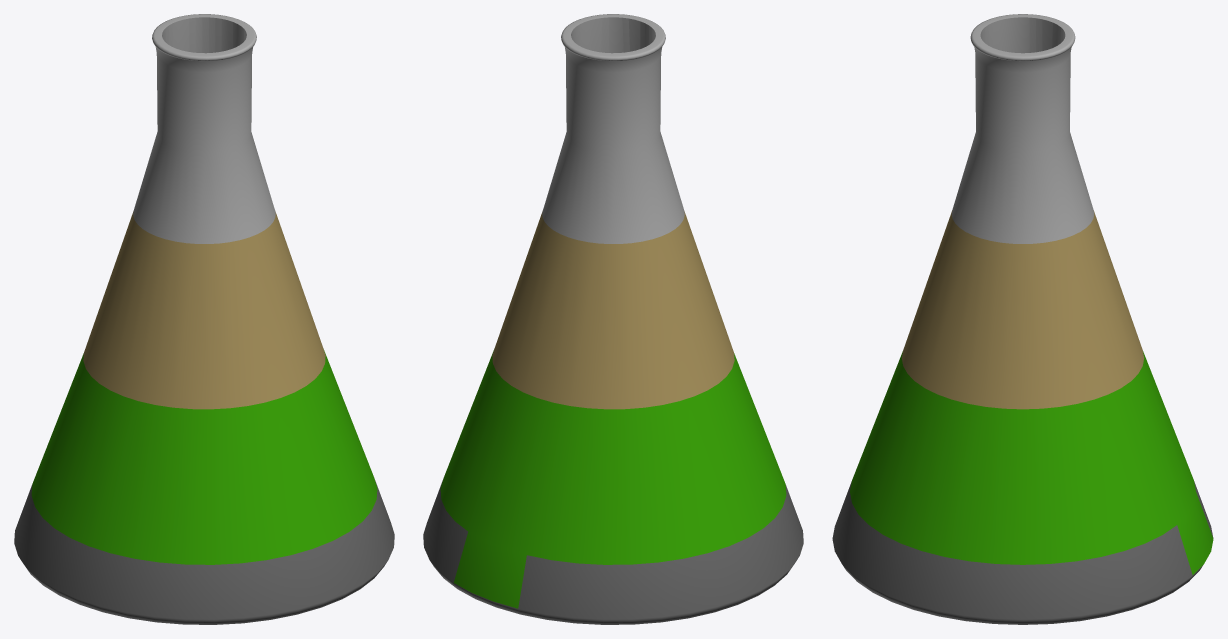
Rendered from HollowFlask.fbx.
3 renders of one model, left to right at view 1: azimuth 30°, elevation 25°; view 2: azimuth 150°, elevation 25°; view 3: azimuth 270°, elevation 25°, orthographic.
Visible parts, largest first — view 1: Erlehnmeyer_Flask2; view 2: Erlehnmeyer_Flask2; view 3: Erlehnmeyer_Flask2.
Part boxes in pixels (bbox=[...]): Erlehnmeyer_Flask2: bbox=[14, 14, 394, 624]; Erlehnmeyer_Flask2: bbox=[423, 14, 803, 624]; Erlehnmeyer_Flask2: bbox=[832, 14, 1213, 624].
Size of the model in its own units: 1.86 by 2.84 by 1.86.
